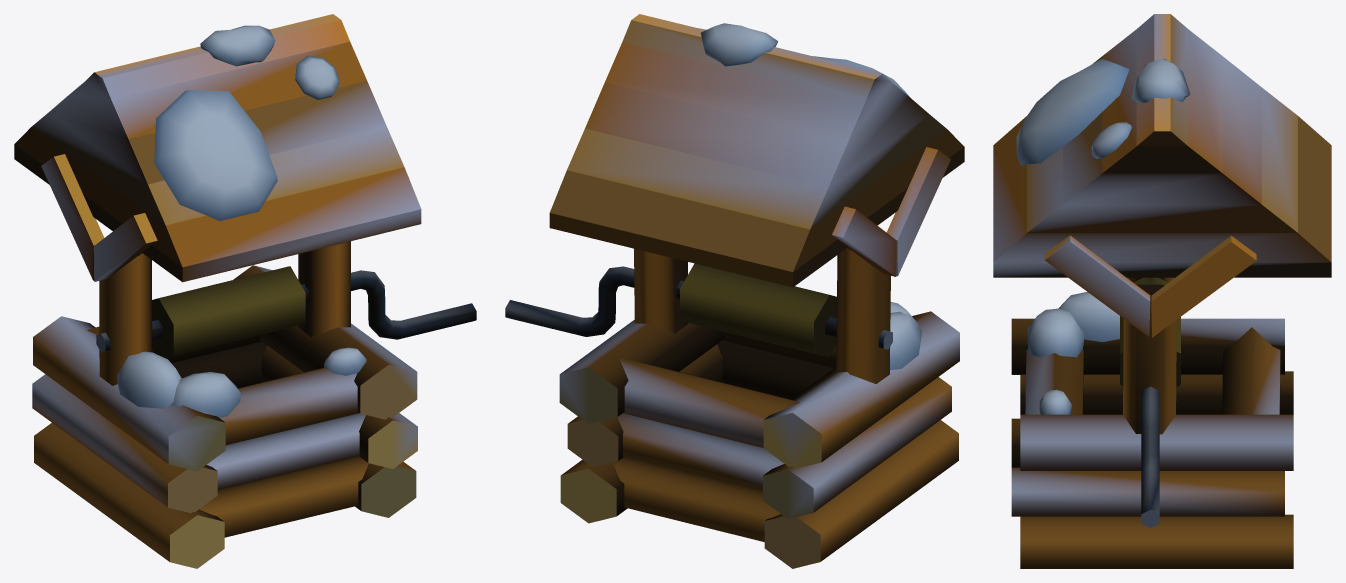
The model's file is Well_01.fbx.
3 views of the same model, side by side, from view 1: azimuth 30°, elevation 25°; view 2: azimuth 150°, elevation 25°; view 3: azimuth 270°, elevation 25° (orthographic).
Parts seen in each view (by area): view 1: Well_01; view 2: Well_01; view 3: Well_01.
Boxes of the visible parts, x1,y1,x2,y2 form: Well_01: (14, 14, 476, 568); Well_01: (505, 14, 964, 568); Well_01: (993, 14, 1331, 568).
Bounding box in the file's own units: 2223 × 2569 × 1708.
